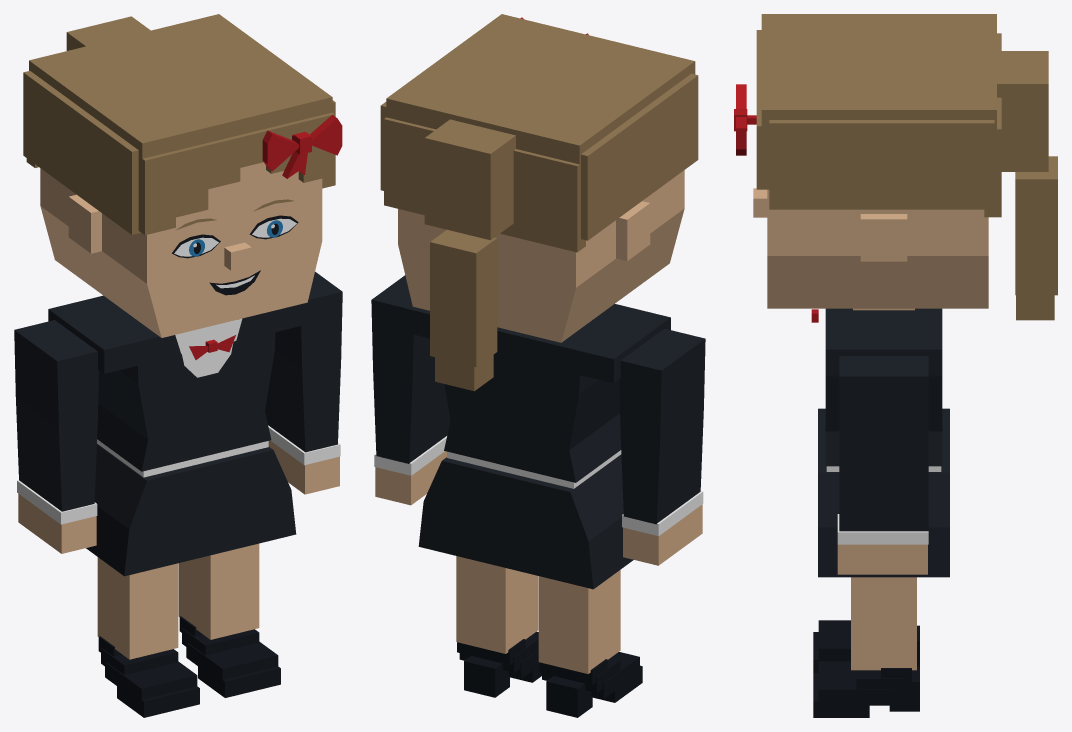
Rendered from female_ponytail.glb.
3 renders of one model, left to right at view 1: azimuth 30°, elevation 25°; view 2: azimuth 150°, elevation 25°; view 3: azimuth 270°, elevation 25°, orthographic. The views are drawn at different scales.
Visible parts, largest first — view 1: char_hair_visual, char_torso_visual, char_head_visual, char_arm_negx_visual, char_leg_negx_visual, char_leg_posx_visual, char_arm_posx_visual, char_bow_visual, char_hand_negx_visual, char_hand_posx_visual, char_eye_posx_visual, char_eye_negx_visual (+1 smaller); view 2: char_hair_visual, char_torso_visual, char_head_visual, char_arm_negx_visual, char_leg_negx_visual, char_arm_posx_visual, char_leg_posx_visual, char_hand_negx_visual, char_hand_posx_visual; view 3: char_hair_visual, char_head_visual, char_arm_posx_visual, char_torso_visual, char_leg_posx_visual, char_hand_posx_visual, char_leg_negx_visual, char_bow_visual.
Boxes of the visible parts, x1,y1,x2,y2 form: char_hair_visual: (23,14,335,235); char_torso_visual: (48,295,308,576); char_head_visual: (40,162,322,337); char_arm_negx_visual: (14,320,98,524); char_leg_negx_visual: (97,557,199,717); char_leg_posx_visual: (178,543,280,697); char_arm_posx_visual: (265,271,342,465); char_bow_visual: (262,114,342,178); char_hand_negx_visual: (18,494,96,553); char_hand_posx_visual: (268,440,339,494); char_eye_posx_visual: (249,215,298,239); char_eye_negx_visual: (172,234,220,258); char_hair_visual: (380,14,698,391); char_torso_visual: (406,304,670,589); char_head_visual: (398,170,684,342); char_arm_negx_visual: (619,328,705,536); char_leg_negx_visual: (538,570,642,717); char_arm_posx_visual: (371,275,450,475); char_leg_posx_visual: (456,556,541,697); char_hand_negx_visual: (623,504,702,565); char_hand_posx_visual: (375,451,446,505); char_hair_visual: (756,14,1057,320); char_head_visual: (753,188,988,310); char_arm_posx_visual: (837,356,928,544); char_torso_visual: (811,308,949,577); char_leg_posx_visual: (813,577,919,717); char_hand_posx_visual: (837,544,927,574); char_leg_negx_visual: (813,620,919,672); char_bow_visual: (734,84,756,155).
Size of the model in its own units: 0.88 by 1.77 by 0.834.
